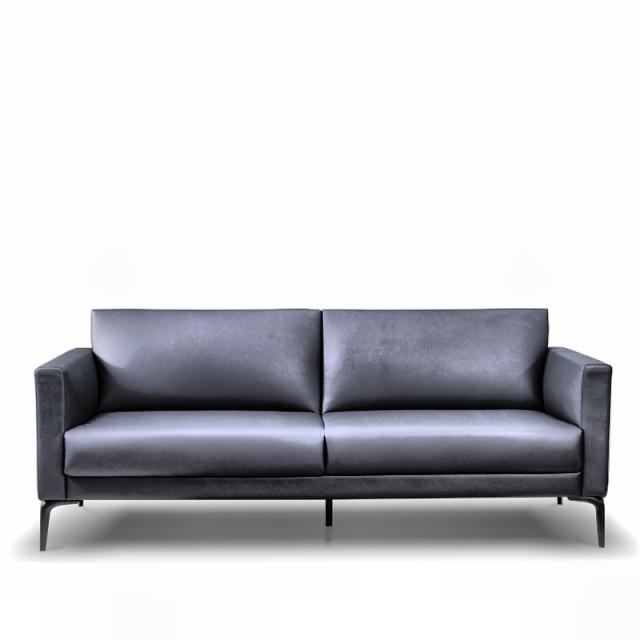sofa: (33, 306, 612, 551)
